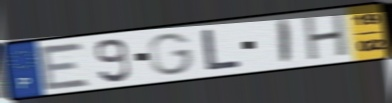9: (93, 38, 132, 83)
E: (35, 41, 93, 92)
G: (146, 31, 196, 77)
H: (303, 11, 351, 63)
I: (278, 17, 293, 66)
L: (199, 27, 243, 72)
